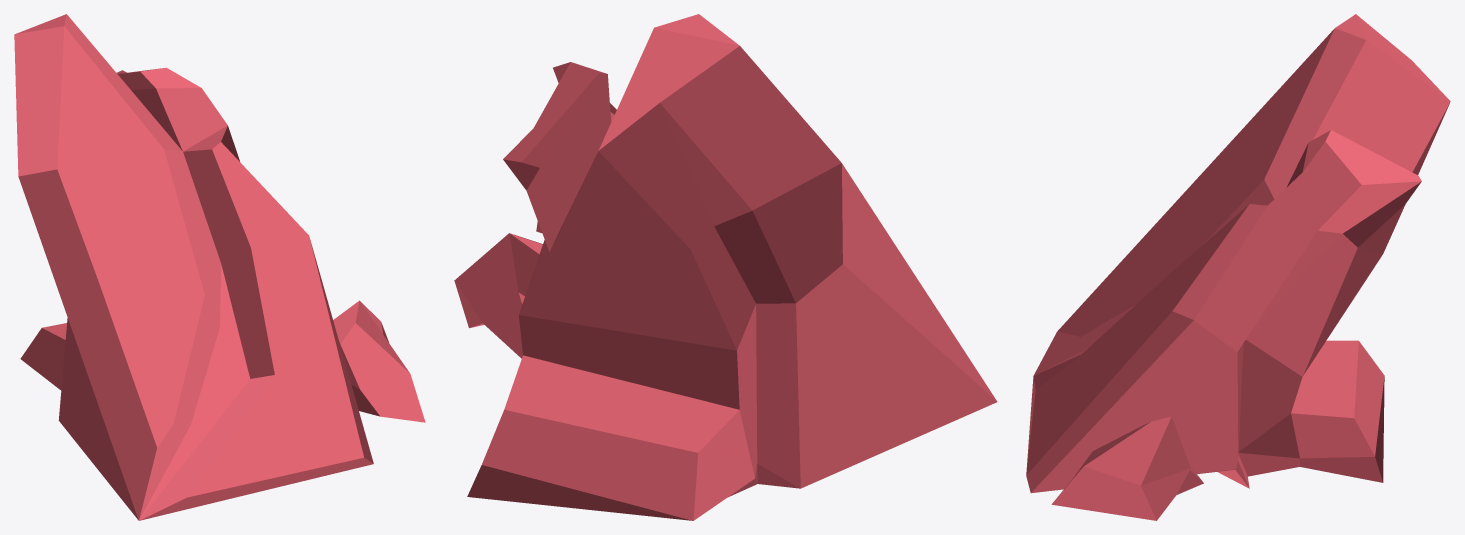
File: decoration-rock-sharp.fbx
The picture shows the model from 3 angles, left to right: view 1: azimuth 30°, elevation 25°; view 2: azimuth 150°, elevation 25°; view 3: azimuth 270°, elevation 25°; orthographic projection. The views are drawn at different scales.
Parts seen in each view (by area): view 1: decoration-rock-sharp; view 2: decoration-rock-sharp; view 3: decoration-rock-sharp.
Boxes of the visible parts, <box> form: decoration-rock-sharp: <box>14,14,425,520</box>; decoration-rock-sharp: <box>454,14,997,520</box>; decoration-rock-sharp: <box>1026,14,1450,520</box>.
Bounding box in the file's own units: 3.82 × 4.13 × 4.14.
